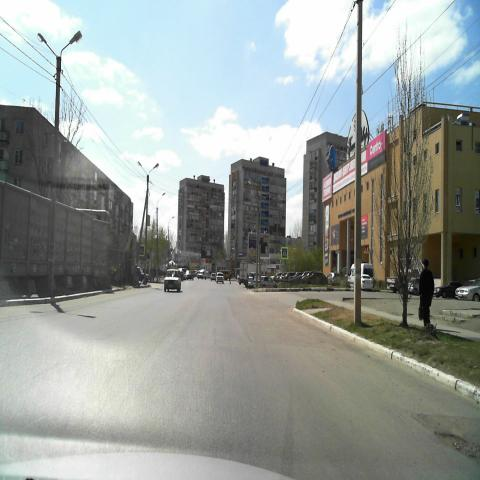2_1: (249, 246, 255, 256)
5_19_1: (281, 246, 288, 259), (138, 244, 144, 256)
